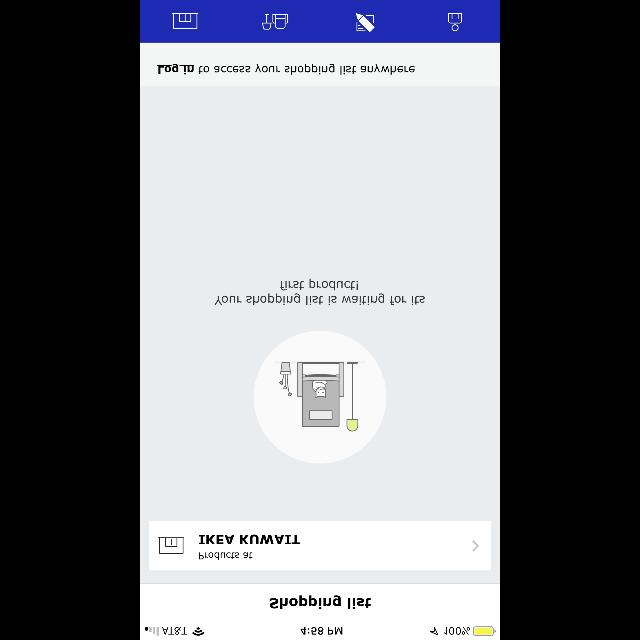icon: (356, 13, 376, 32), (448, 13, 462, 32), (472, 540, 480, 552)
image: (254, 331, 386, 464), (173, 13, 199, 29), (262, 14, 288, 30), (159, 537, 185, 553)
text: (215, 279, 425, 305), (158, 64, 414, 74), (270, 595, 370, 609), (200, 534, 300, 544), (200, 552, 252, 560)
uppertaskbar: (140, 626, 500, 640)
